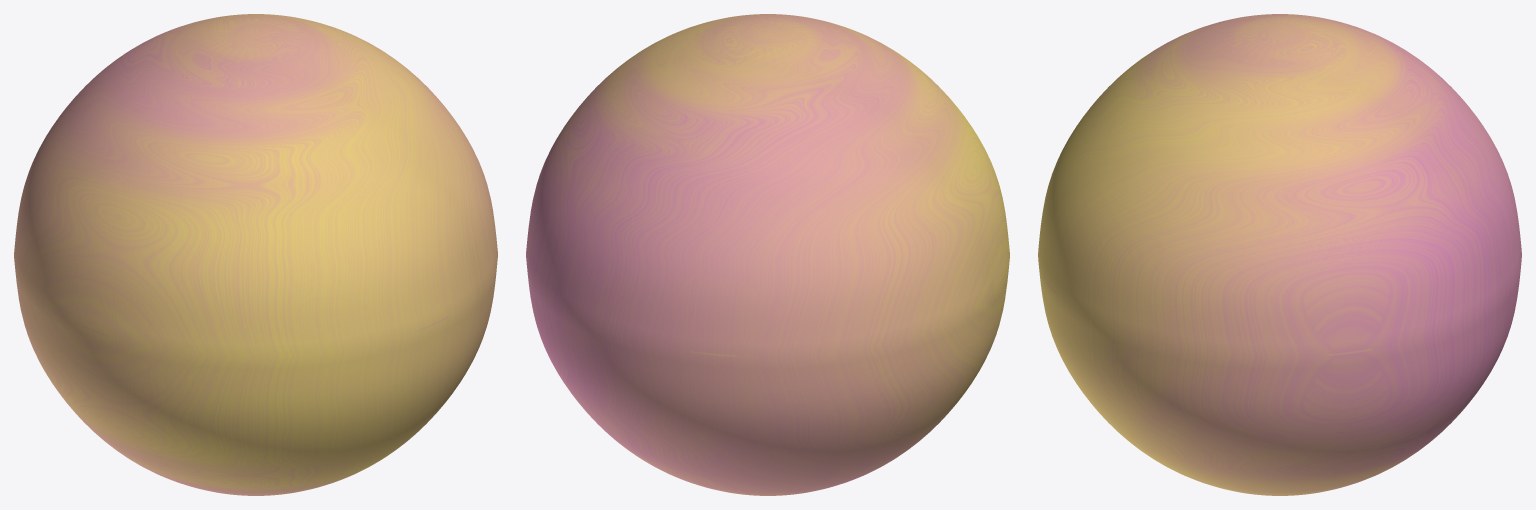
Rendered from BULLE.glb.
3 renders of one model, left to right at view 1: azimuth 30°, elevation 25°; view 2: azimuth 150°, elevation 25°; view 3: azimuth 270°, elevation 25°, orthographic.
Visible parts, largest first — view 1: Circle; view 2: Circle; view 3: Circle.
Boxes of the visible parts, <box> form: Circle: <box>14,14,497,495</box>; Circle: <box>526,14,1009,495</box>; Circle: <box>1038,14,1521,495</box>.
Size of the model in its own units: 1.99 by 2.02 by 1.99.
1 material, 1 textured.
